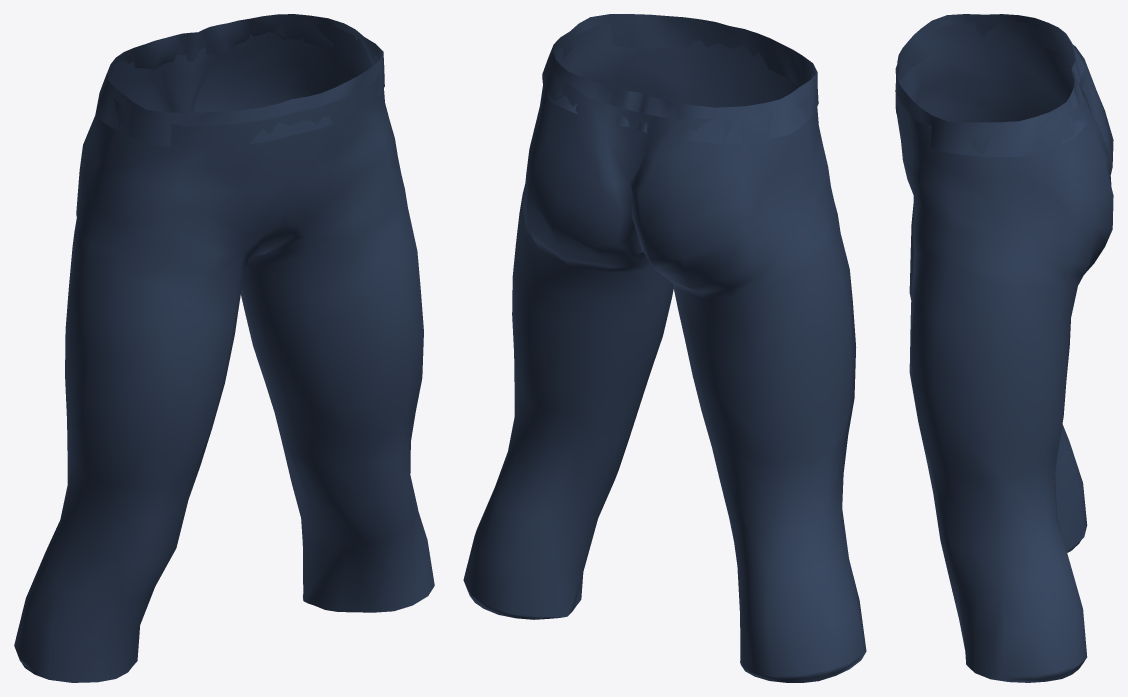
The model's file is shorts.glb.
The picture shows the model from 3 angles, left to right: view 1: azimuth 30°, elevation 25°; view 2: azimuth 150°, elevation 25°; view 3: azimuth 270°, elevation 25°; orthographic projection. The views are drawn at different scales.
Parts seen in each view (by area): view 1: shorts; view 2: shorts; view 3: shorts.
Part boxes in pixels (x1,y1,x2,y2): shorts: (14,14,434,682); shorts: (463,14,866,682); shorts: (895,14,1113,682).
Size of the model in its own units: 0.5001 by 0.6971 by 0.2572.
